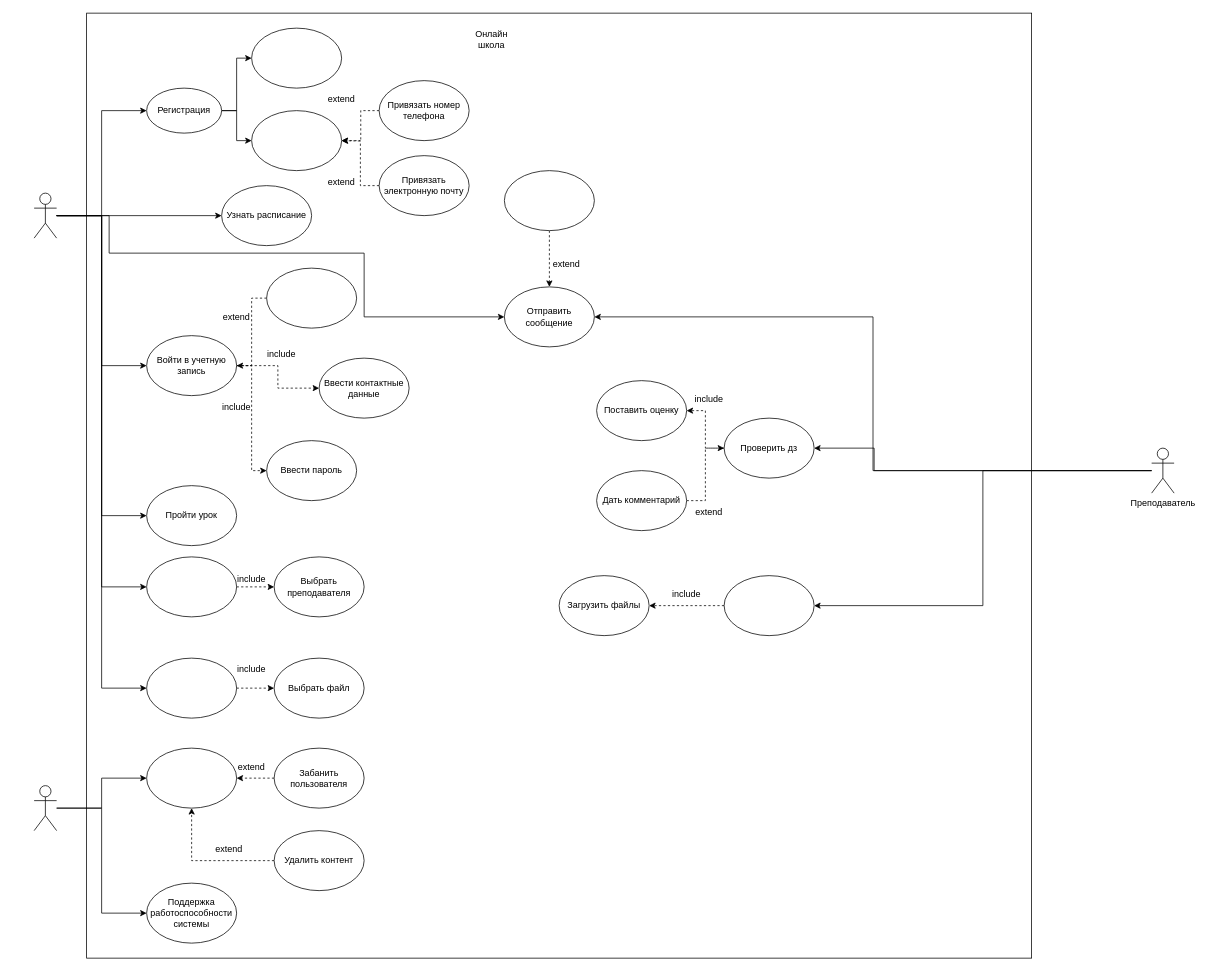
Some shapes in this 1208 by 971 pixel diagram are drawn without their labels. The box of each missing label's shape, as (x1, y1, x2, y2) in pixels:
Администратор: (33, 785, 57, 831)
Задать пароль: (251, 27, 342, 88)
Записаться на курс: (146, 556, 237, 617)
Модерация: (146, 747, 237, 808)
Привязать контактные данные: (251, 110, 342, 171)
Прикрепить файл: (504, 170, 594, 231)
Сбросить пароль: (266, 267, 357, 328)
Сдать дз: (146, 657, 237, 718)
создать курс: (723, 575, 814, 636)
Ученик: (33, 192, 57, 238)
